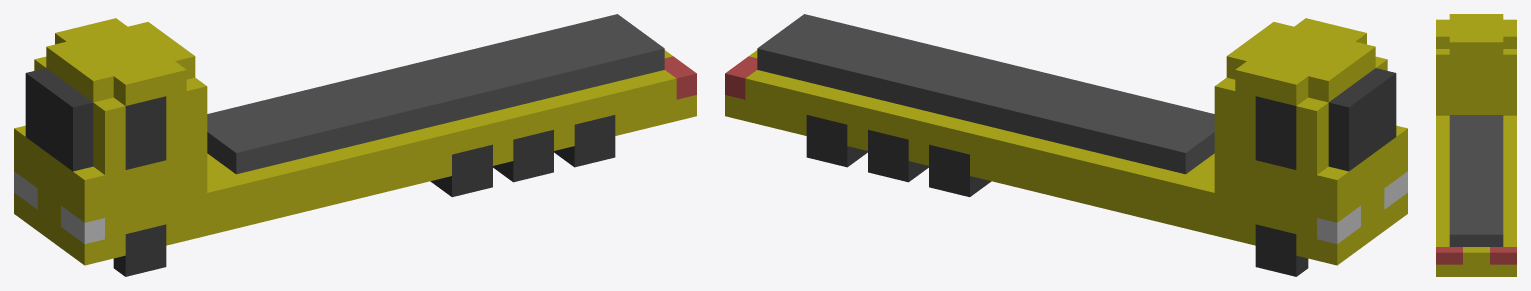
File: truck-v3-yellow.gltf
The picture shows the model from 3 angles, left to right: view 1: azimuth 30°, elevation 25°; view 2: azimuth 150°, elevation 25°; view 3: azimuth 270°, elevation 25°; orthographic projection. The views are drawn at different scales.
Visible parts, largest first — view 1: model, wheels; view 2: model, wheels; view 3: model.
Boxes of the visible parts, left/top/right/bottom form: model: left=14, top=14, right=696, bottom=265; wheels: left=113, top=115, right=615, bottom=276; model: left=725, top=14, right=1407, bottom=265; wheels: left=806, top=115, right=1308, bottom=276; model: left=1436, top=14, right=1516, bottom=276.
Bounding box in the file's own units: 3 × 0.9 × 0.6.
Materials: 2 (2 with a texture image).
